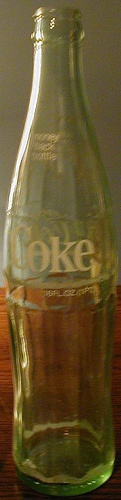emptybottle: (4, 8, 115, 495)
